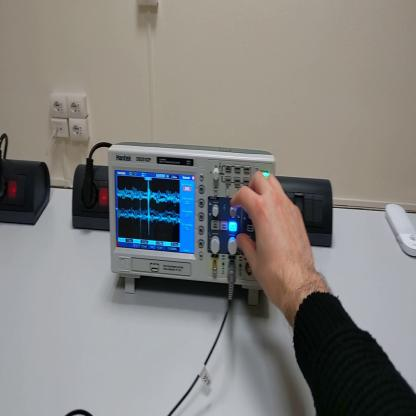hand: (229, 168, 317, 311)
oscilloscope: (108, 142, 275, 307)
socket: (1, 157, 53, 229), (72, 162, 110, 232)
